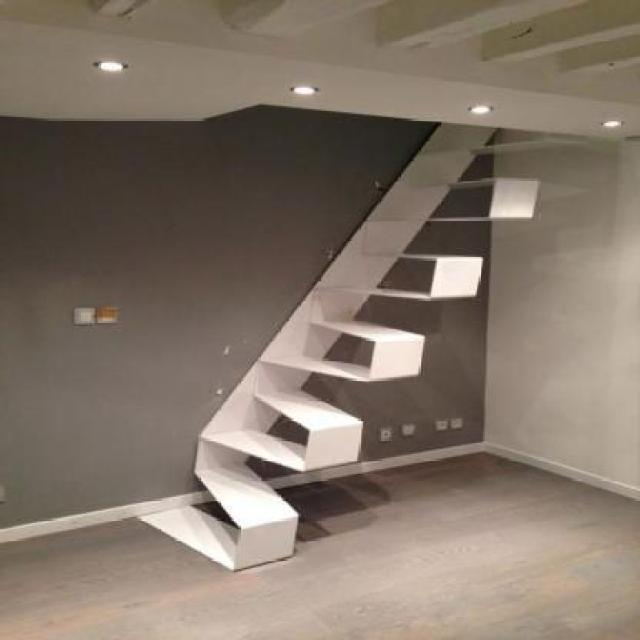stair: (135, 120, 551, 582)
